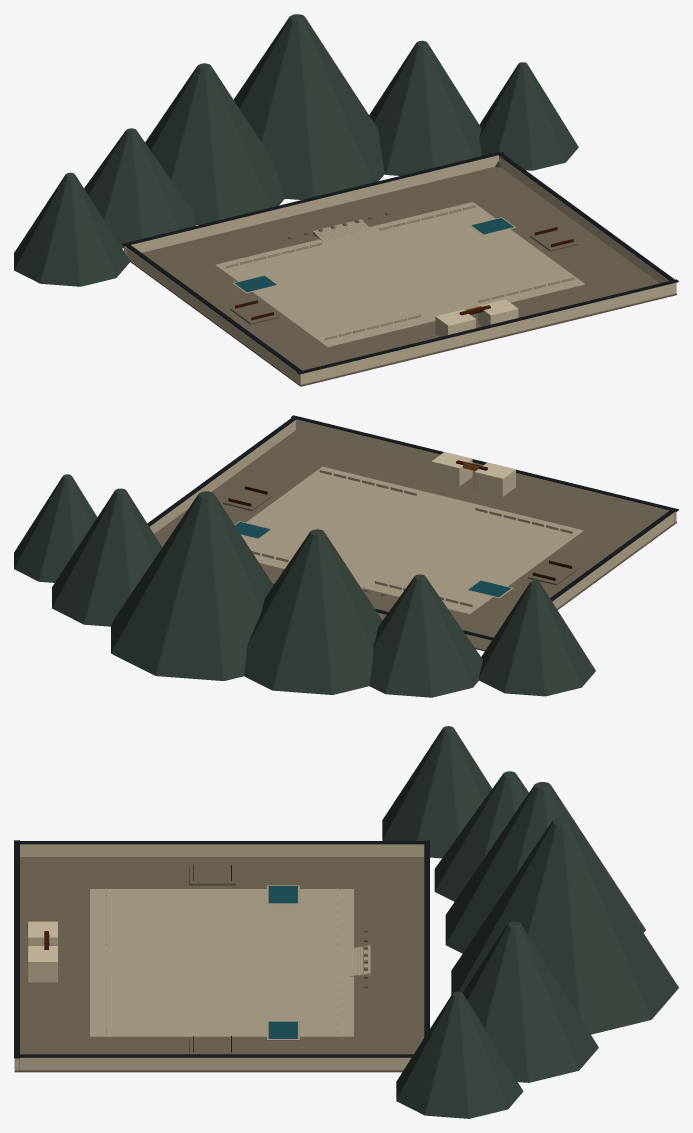
The model's file is mountain_arena_shell.obj.
3 renders of one model, top to bottom at view 1: azimuth 30°, elevation 25°; view 2: azimuth 150°, elevation 25°; view 3: azimuth 270°, elevation 25°, orthographic. The views are drawn at different scales.
Visible parts, largest first — view 1: InnerCourt, Ground, Mountain_2, Mountain_1, Mountain_3, Mountain_5, Mountain_0, Mountain_4, WallZ_43.5, WallZ_-43.5, WallX_-53.5, WallX_53.5 (+8 smaller); view 2: InnerCourt, Mountain_2, Ground, Mountain_1, Mountain_0, Mountain_3, Mountain_5, Mountain_4, WallZ_43.5, WallX_53.5, WallX_-53.5, WallCapZ_43.5 (+6 smaller); view 3: Ground, InnerCourt, Mountain_2, Mountain_3, Mountain_4, Mountain_5, Mountain_1, WallX_53.5, WallX_-53.5, Mountain_0, WallCapX_-53.5, WallCapX_53.5 (+6 smaller).
Part boxes in pixels (bbox=[...]): InnerCourt: bbox=[215, 202, 585, 346]; Ground: bbox=[129, 167, 676, 386]; Mountain_2: bbox=[233, 14, 384, 199]; Mountain_1: bbox=[145, 63, 284, 224]; Mountain_3: bbox=[369, 40, 481, 175]; Mountain_5: bbox=[14, 172, 130, 286]; Mountain_0: bbox=[84, 128, 196, 248]; Mountain_4: bbox=[479, 62, 578, 170]; WallZ_43.5: bbox=[299, 282, 676, 384]; WallZ_-43.5: bbox=[124, 155, 498, 254]; WallX_-53.5: bbox=[126, 247, 298, 382]; WallX_53.5: bbox=[499, 156, 669, 283]; InnerCourt: bbox=[242, 466, 583, 614]; Mountain_2: bbox=[111, 491, 273, 680]; Ground: bbox=[154, 430, 676, 651]; Mountain_1: bbox=[244, 529, 382, 694]; Mountain_0: bbox=[369, 574, 482, 697]; Mountain_3: bbox=[52, 488, 162, 626]; Mountain_5: bbox=[479, 580, 595, 696]; Mountain_4: bbox=[14, 474, 97, 582]; WallZ_43.5: bbox=[296, 419, 676, 522]; WallX_53.5: bbox=[149, 420, 295, 533]; WallX_-53.5: bbox=[552, 512, 674, 608]; WallCapZ_43.5: bbox=[291, 415, 678, 511]; Ground: bbox=[14, 857, 424, 1072]; InnerCourt: bbox=[90, 889, 353, 1036]; Mountain_2: bbox=[451, 818, 678, 1034]; Mountain_3: bbox=[463, 921, 598, 1082]; Mountain_4: bbox=[396, 991, 523, 1118]; Mountain_5: bbox=[382, 726, 492, 858]; Mountain_1: bbox=[445, 782, 645, 953]; WallX_53.5: bbox=[19, 1057, 411, 1070]; WallX_-53.5: bbox=[20, 844, 424, 856]; Mountain_0: bbox=[434, 771, 528, 901]; WallCapX_-53.5: bbox=[17, 841, 426, 844]; WallCapX_53.5: bbox=[17, 1054, 413, 1057].
Size of the model in its own units: 159 by 39.17 by 141.
